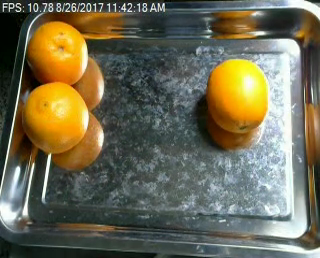Orange: (207, 58, 270, 133), (24, 81, 89, 153), (27, 21, 88, 85)
